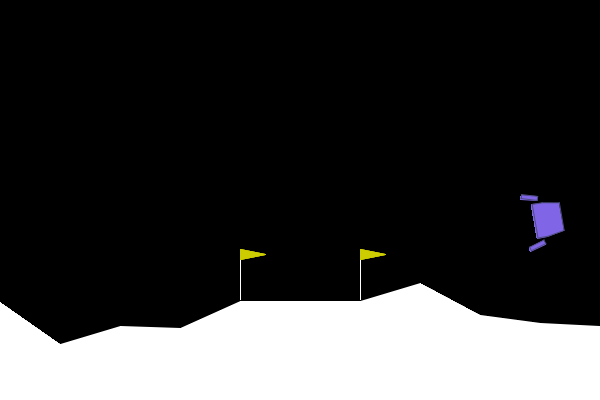lander: (519, 187, 568, 253)
